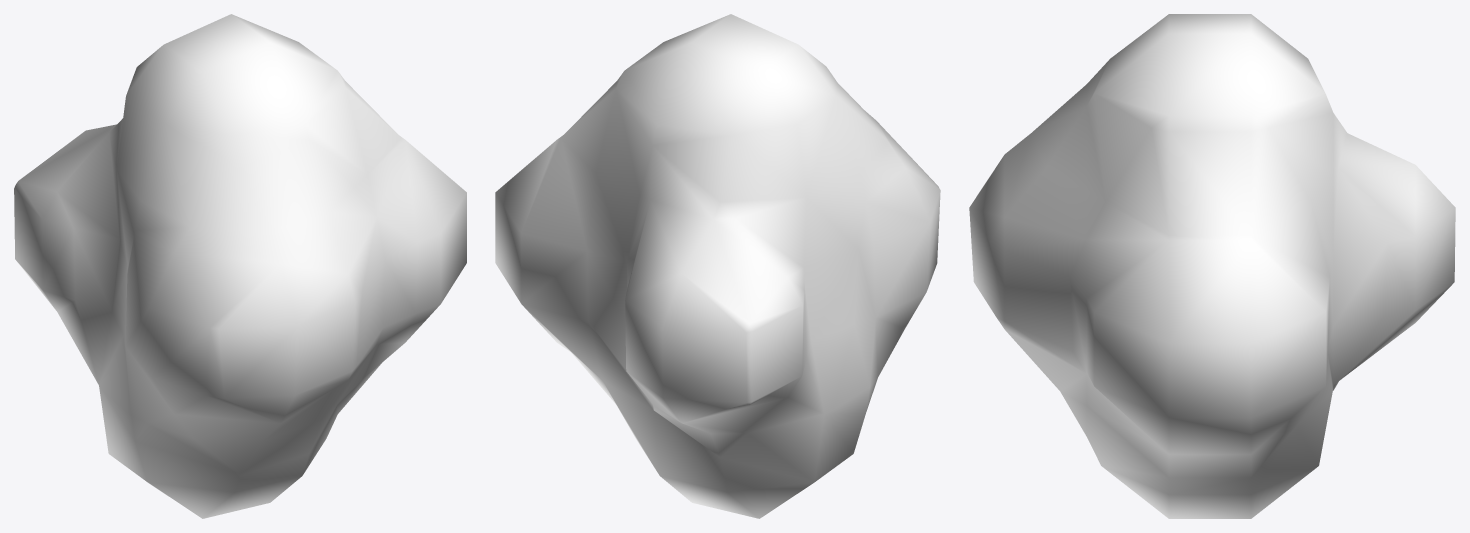
Rendered from Trail.fbx.
3 renders of one model, left to right at view 1: azimuth 30°, elevation 25°; view 2: azimuth 150°, elevation 25°; view 3: azimuth 270°, elevation 25°, orthographic. The views are drawn at different scales.
Visible parts, largest first — view 1: Mball.005; view 2: Mball.005; view 3: Mball.005.
Part boxes in pixels (<box>): Mball.005: <box>14,14,466,518</box>; Mball.005: <box>495,14,940,518</box>; Mball.005: <box>969,14,1455,518</box>.
Bounding box in the file's own units: 386 × 475 × 432.
